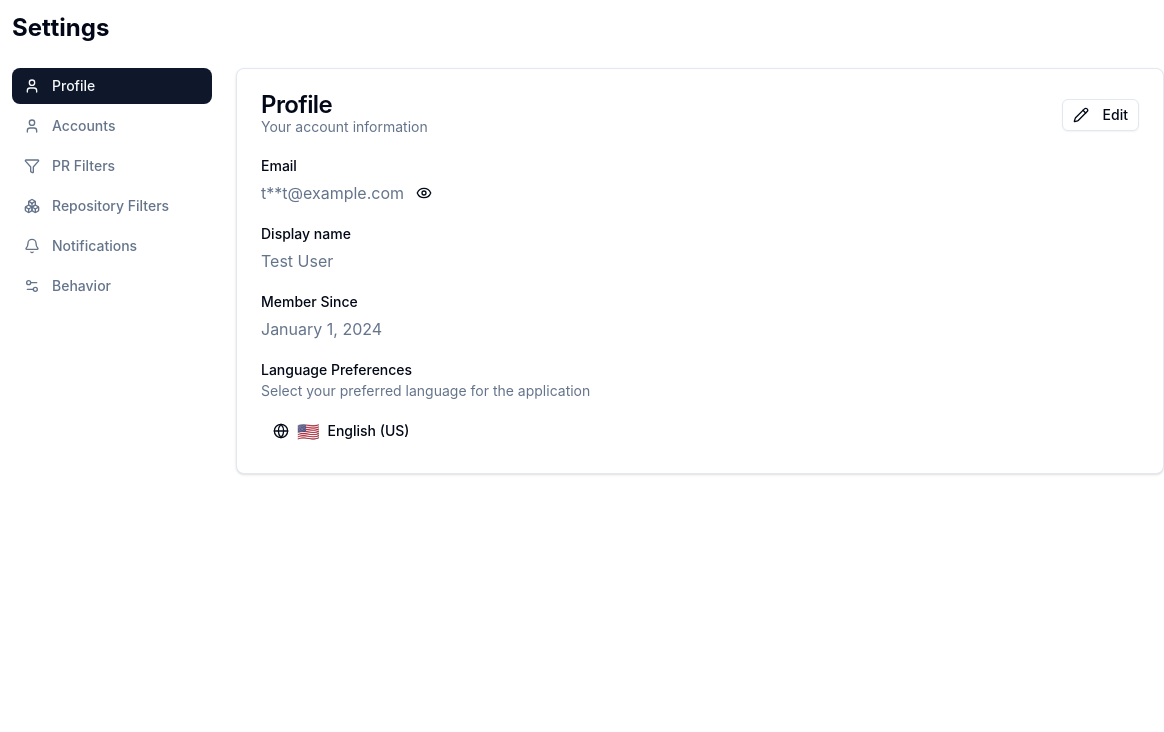
Settings › Navigation › navigates to PR filters page
Step 1. Click the link "PR Filters" → (70,166), box [24,157,115,174]
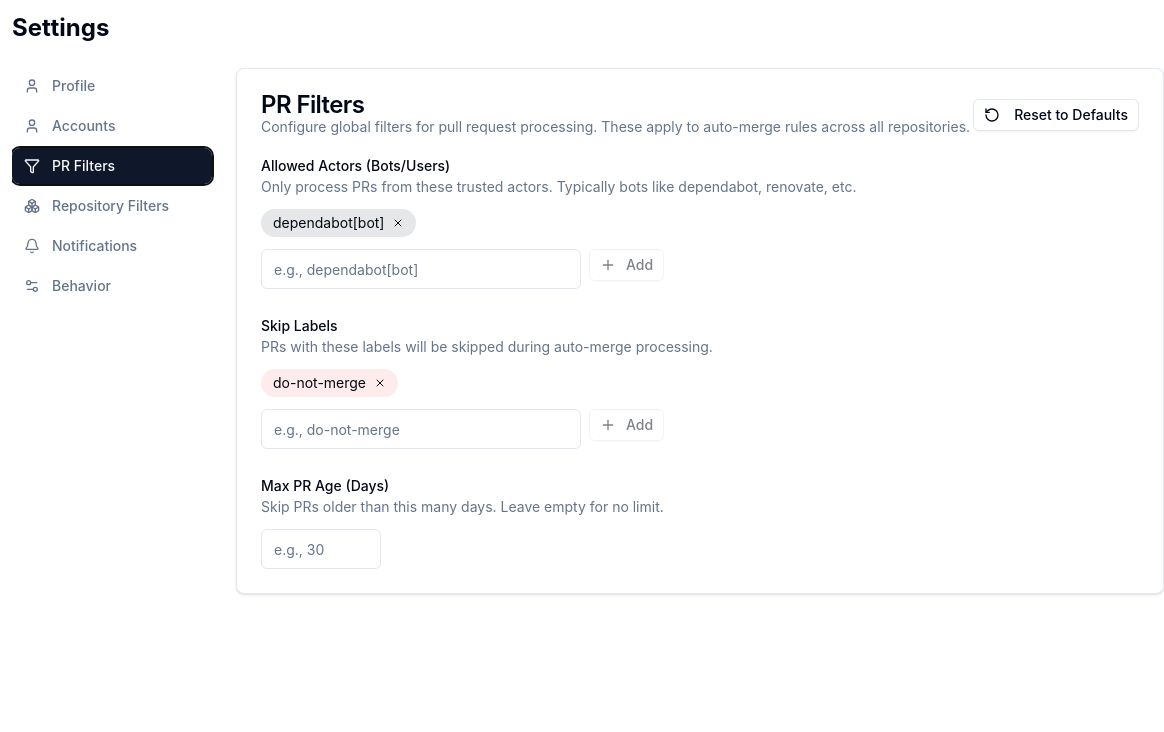
Expected: the heading "PR Filters" is shown, [261,90,364,119]
